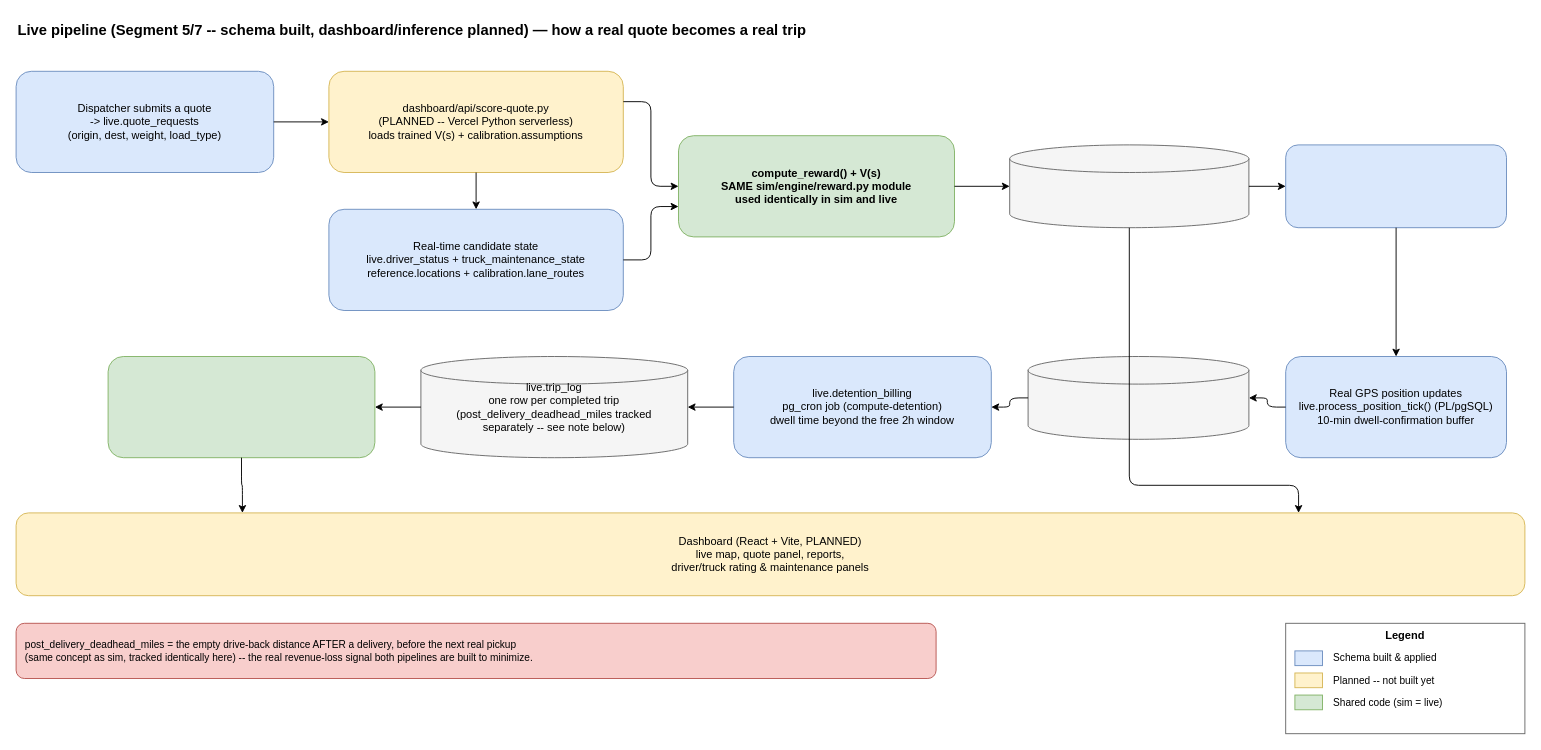
The diagram is 1541 pixels wide and 750 high, and some of its shapes have lost their labels. The centre of each missing label's shape, as x and y in pixels:
"Dispatcher assigns one -> live.trips created" belongs at (1395,186).
"live.driver_ratings / truck_ratings views computed on read from trip_log" belongs at (241,407).
"live.geofence_events live.geofence_dwell_state" belongs at (1138,397).
"live.quote_recommendations ranked top-5 driver/truck options" belongs at (1129,186).
